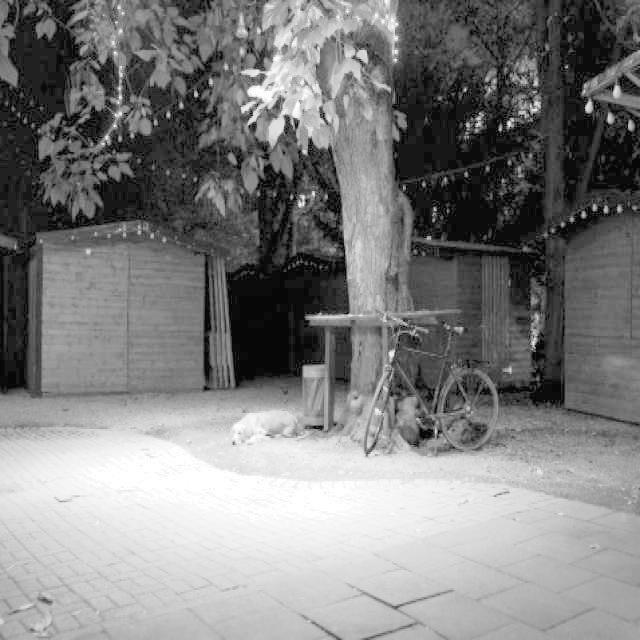Bicycle: (351, 303, 503, 460)
Tree: (294, 0, 416, 386)
